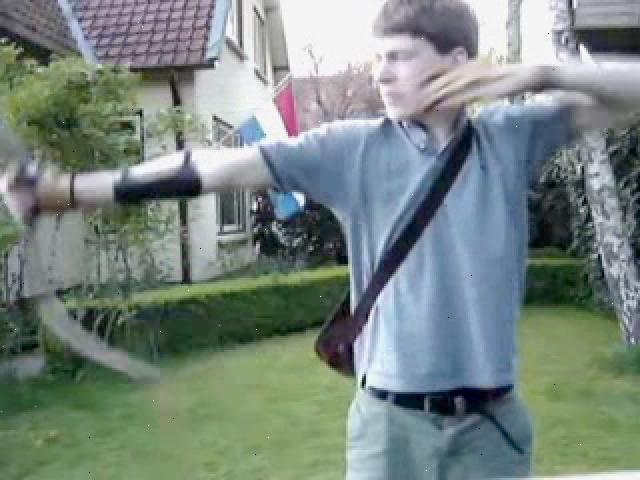P: (5, 6, 548, 472)
